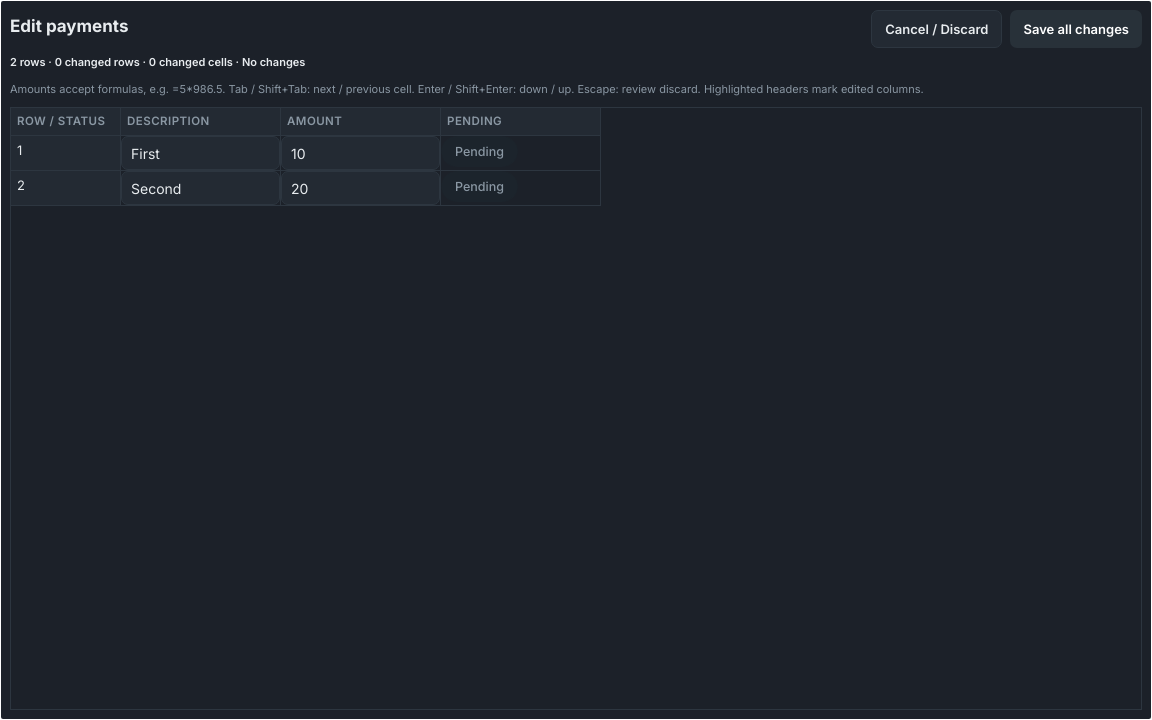
it: BatchEditGrid › blocks the entire save for invalid and blank numeric cells
The image size is (1152, 720).
Replace the text in the field named "Row 1, Description" with "Valid change" at (200, 153), box x1=121 y1=136 x2=280 y2=170
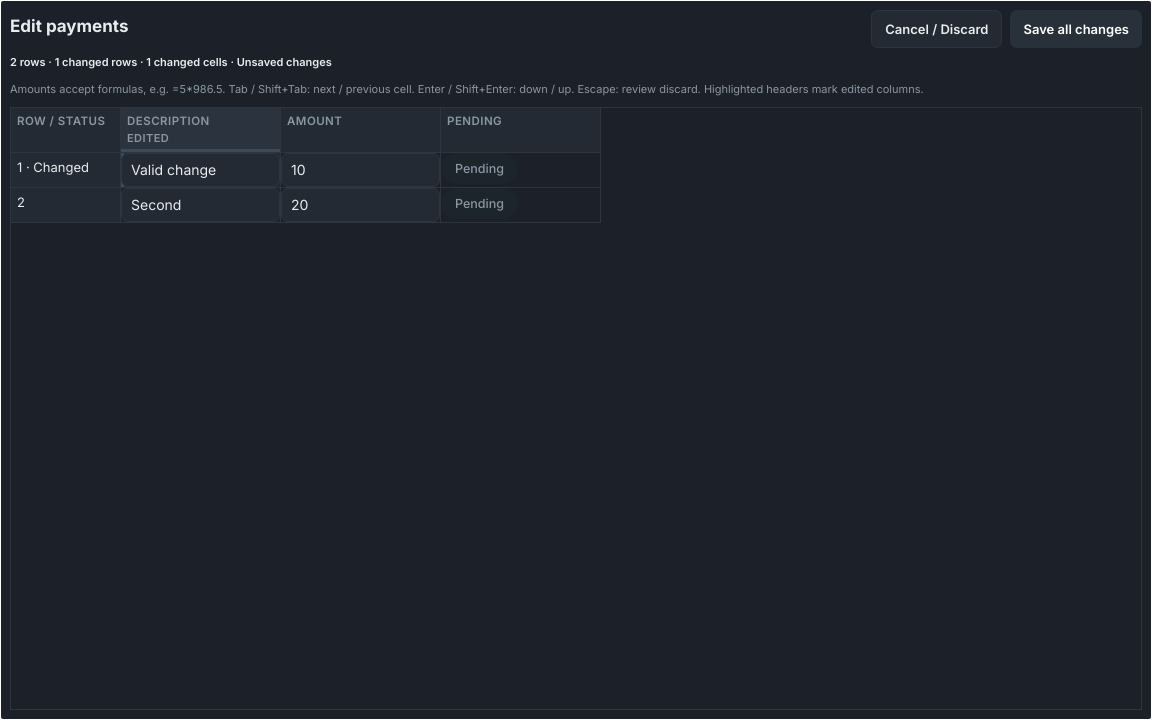
Clear the field named "Row 2, Amount" at (360, 205), box x1=281 y1=188 x2=440 y2=222
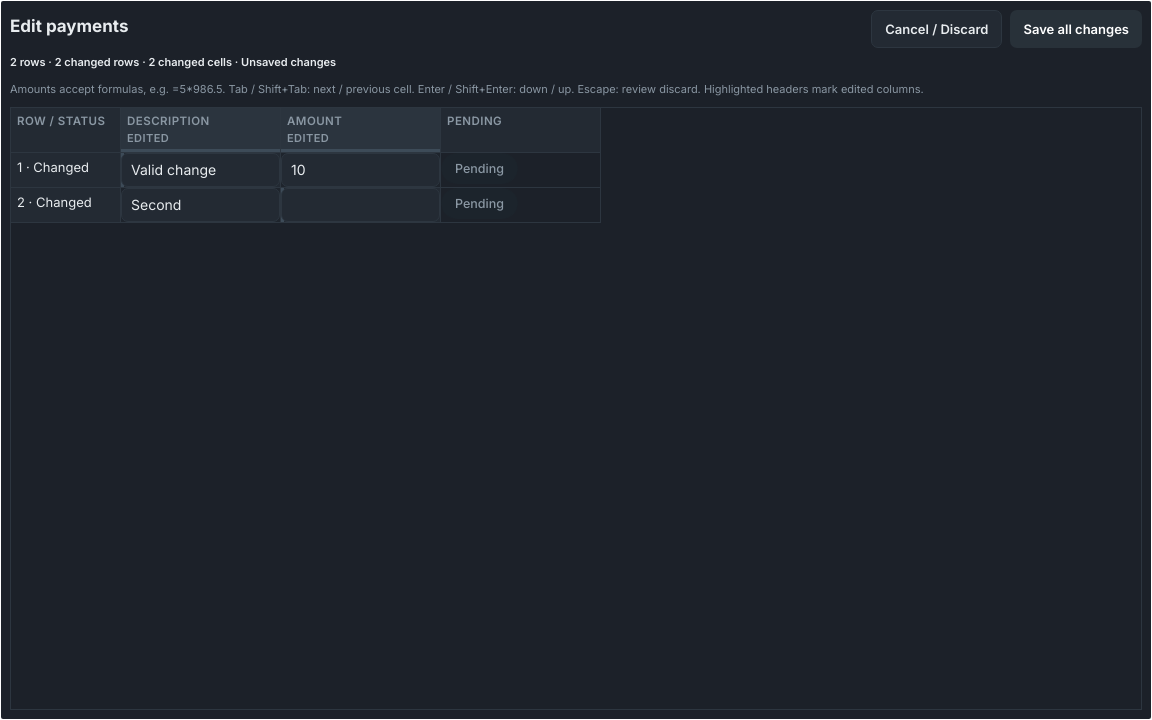
Click the button "Save all changes" at (1076, 29), box x1=1010 y1=10 x2=1142 y2=48
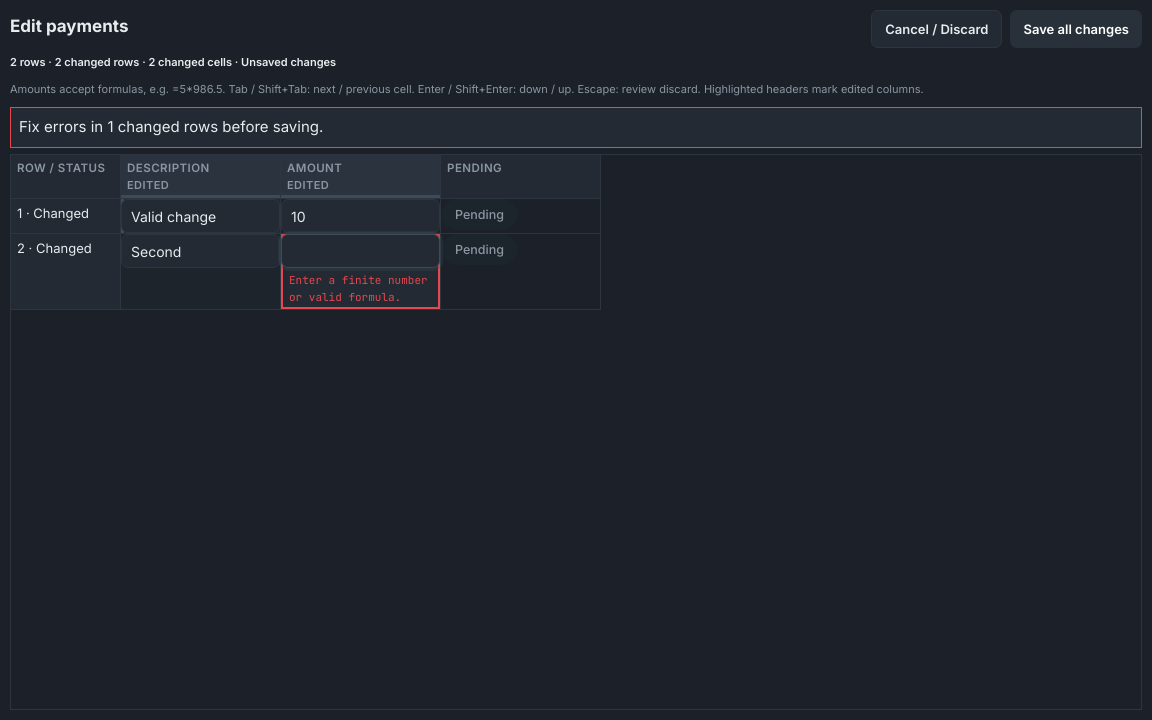
Check: the text "Enter a finite number or valid formula." is shown, box x1=281 y1=268 x2=440 y2=309
